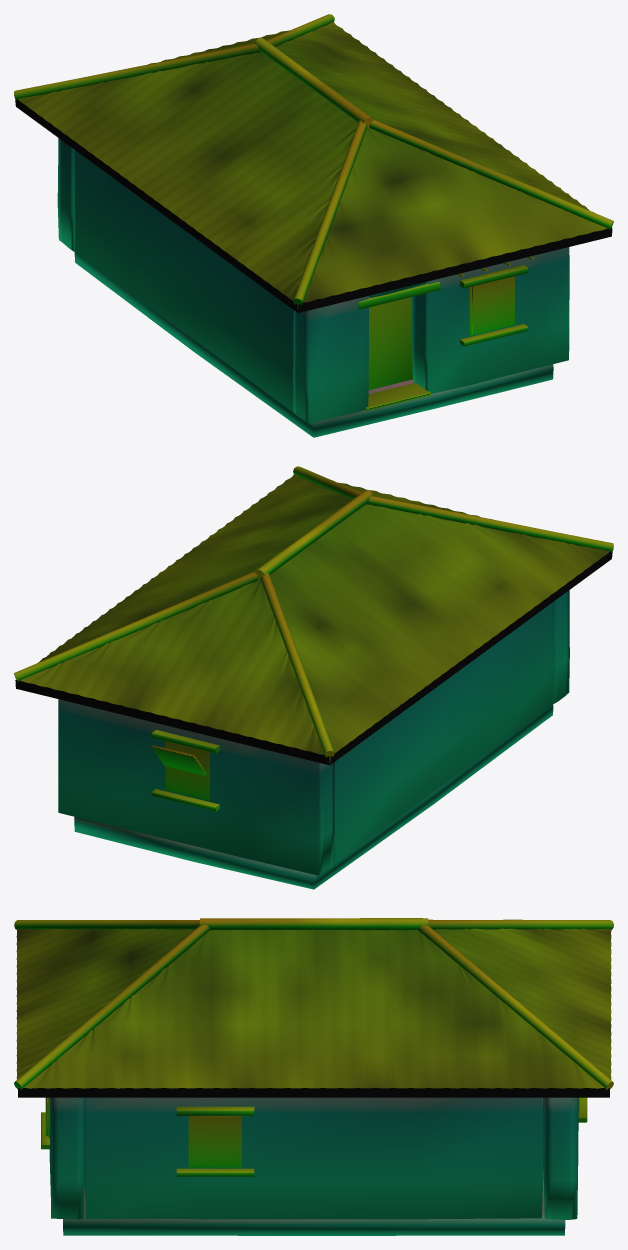
The model's file is lowtown_house_b.glb.
3 views of the same model, one above another, from view 1: azimuth 30°, elevation 25°; view 2: azimuth 150°, elevation 25°; view 3: azimuth 270°, elevation 25° (orthographic). The views are drawn at different scales.
Parts seen in each view (by area): view 1: lowtown_house_b; view 2: lowtown_house_b; view 3: lowtown_house_b.
Part boxes in pixels (x1,y1,x2,y2): lowtown_house_b: (14, 14, 613, 437); lowtown_house_b: (14, 466, 613, 889); lowtown_house_b: (14, 918, 613, 1235).
Size of what is drawn, in the model's own units: 5.51 by 4.03 by 8.51.
